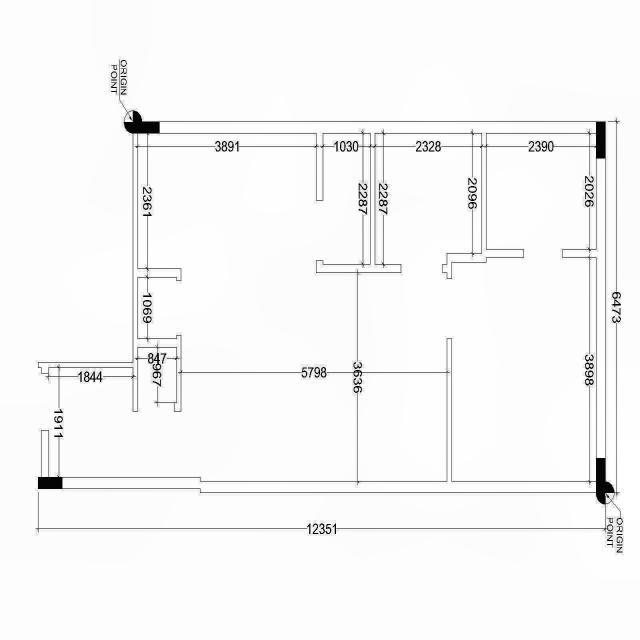Column: (596, 122, 606, 158), (132, 122, 160, 134), (38, 477, 62, 489), (596, 458, 606, 482)
